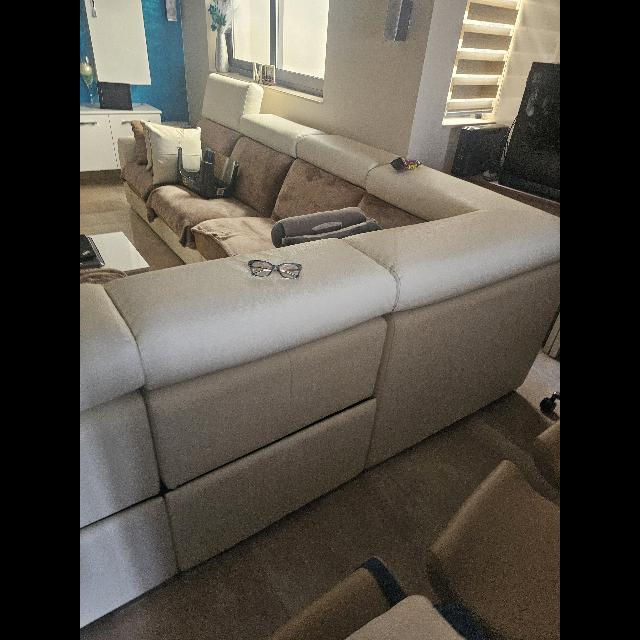glasses: (248, 261, 302, 279)
